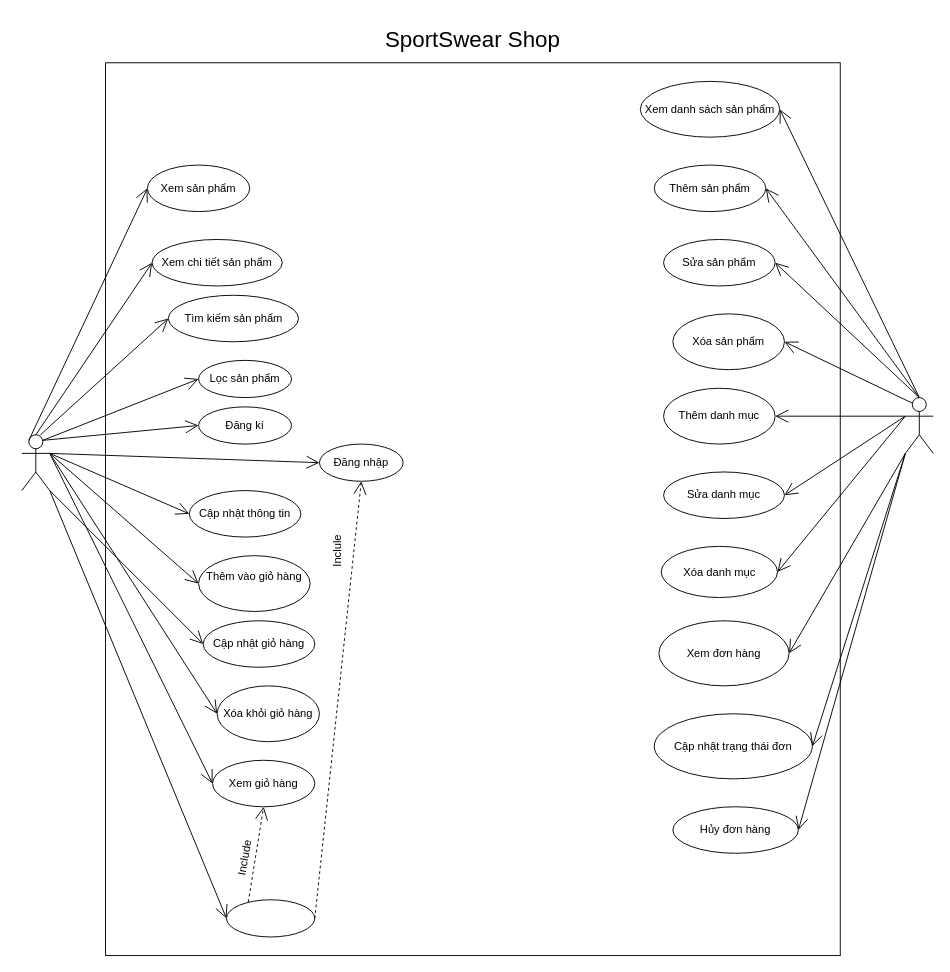
The diagram is 950 pixels wide and 972 high, and some of its shapes have lost their labels. Each missing label, with the centre of its shape:
"Admin" goes at (x=918, y=425).
"User" goes at (x=35, y=462).
"Đặt hàng" goes at (x=270, y=918).
